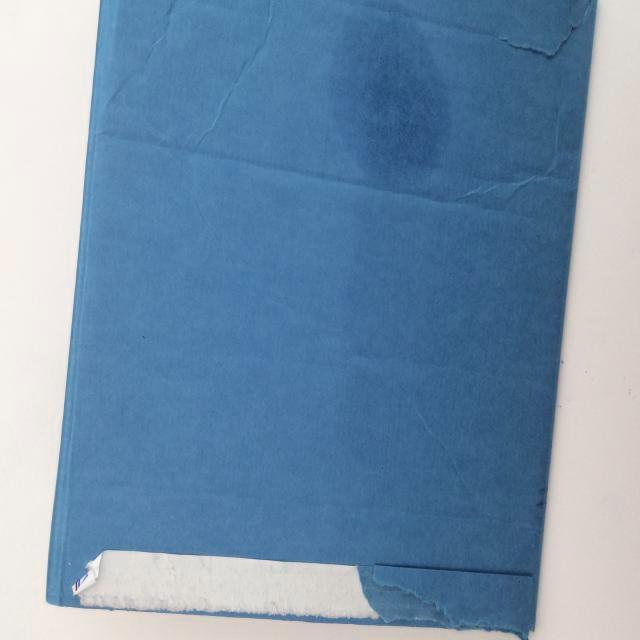cardboard: (42, 0, 601, 640)
